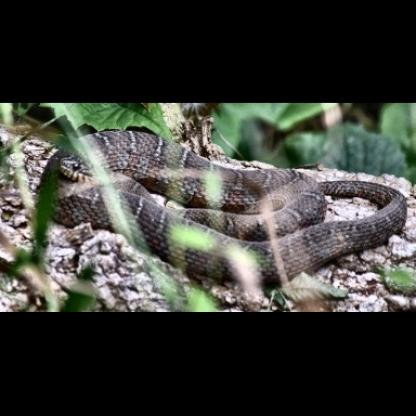Snake: (8, 102, 414, 316)
